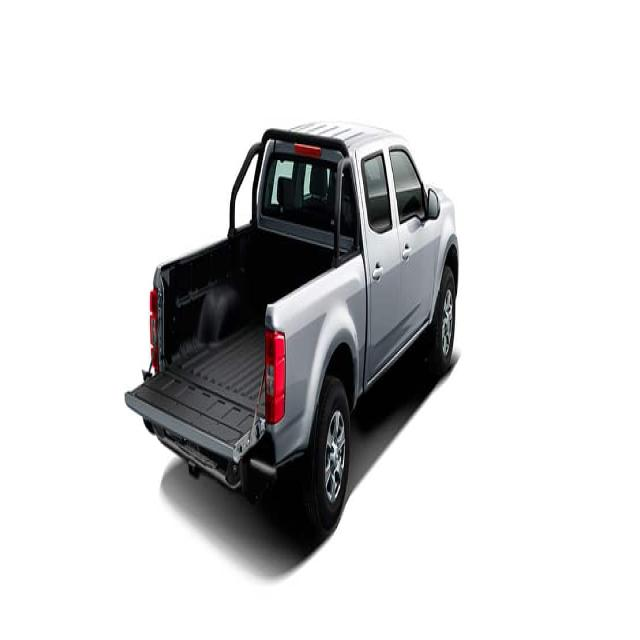CMT: (131, 115, 460, 514)
